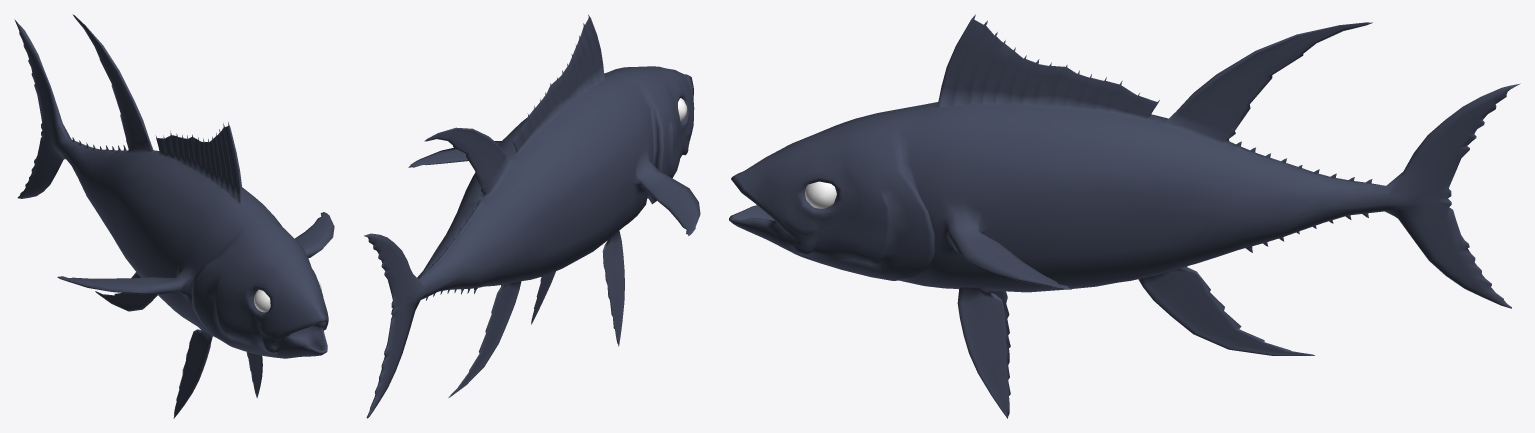
Rendered from atun.obj.
The picture shows the model from 3 angles, left to right: view 1: azimuth 30°, elevation 25°; view 2: azimuth 150°, elevation 25°; view 3: azimuth 270°, elevation 25°; orthographic projection. The views are drawn at different scales.
Visible parts, largest first — view 1: FishC_Plane.001, CorneaC_Sphere.005; view 2: FishC_Plane.001; view 3: FishC_Plane.001, CorneaC_Sphere.005.
Boxes of the visible parts, bbox=[...] form: FishC_Plane.001: bbox=[14, 14, 334, 418]; CorneaC_Sphere.005: bbox=[254, 281, 321, 312]; FishC_Plane.001: bbox=[364, 14, 700, 418]; FishC_Plane.001: bbox=[729, 14, 1520, 418]; CorneaC_Sphere.005: bbox=[805, 181, 836, 208].
Bounding box in the file's own units: 2.43 × 2.58 × 4.89.
